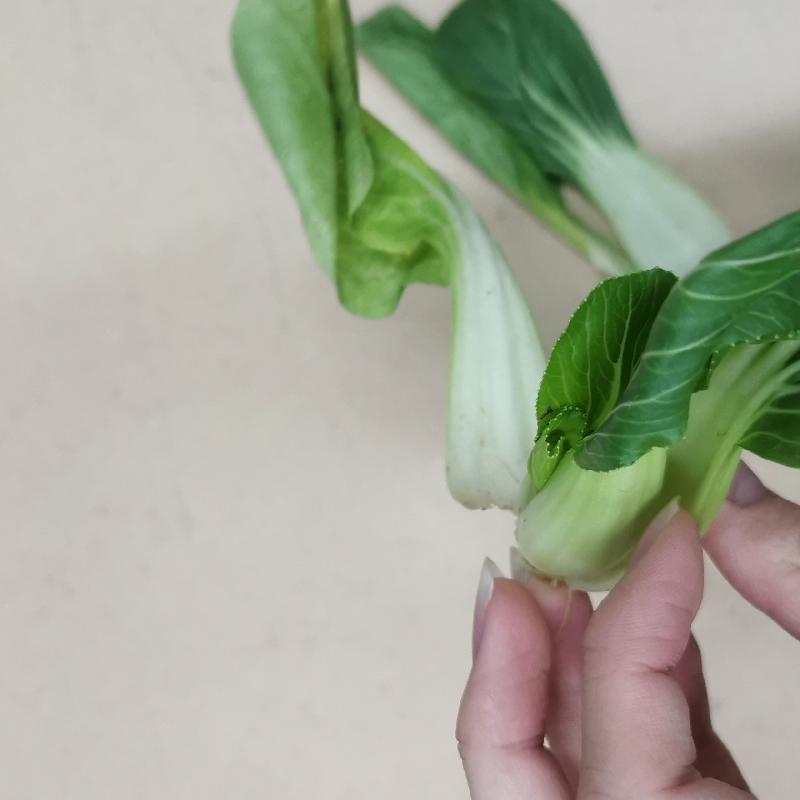green vegatable: (222, 4, 800, 572)
